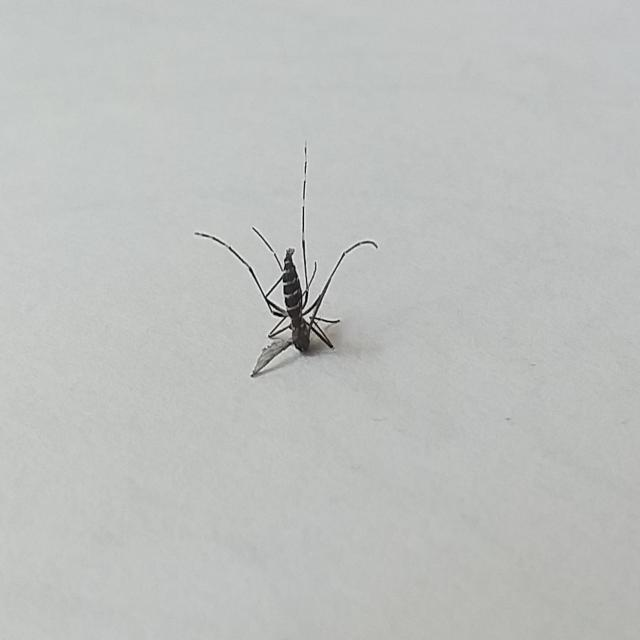albopictus: (190, 139, 380, 378)
